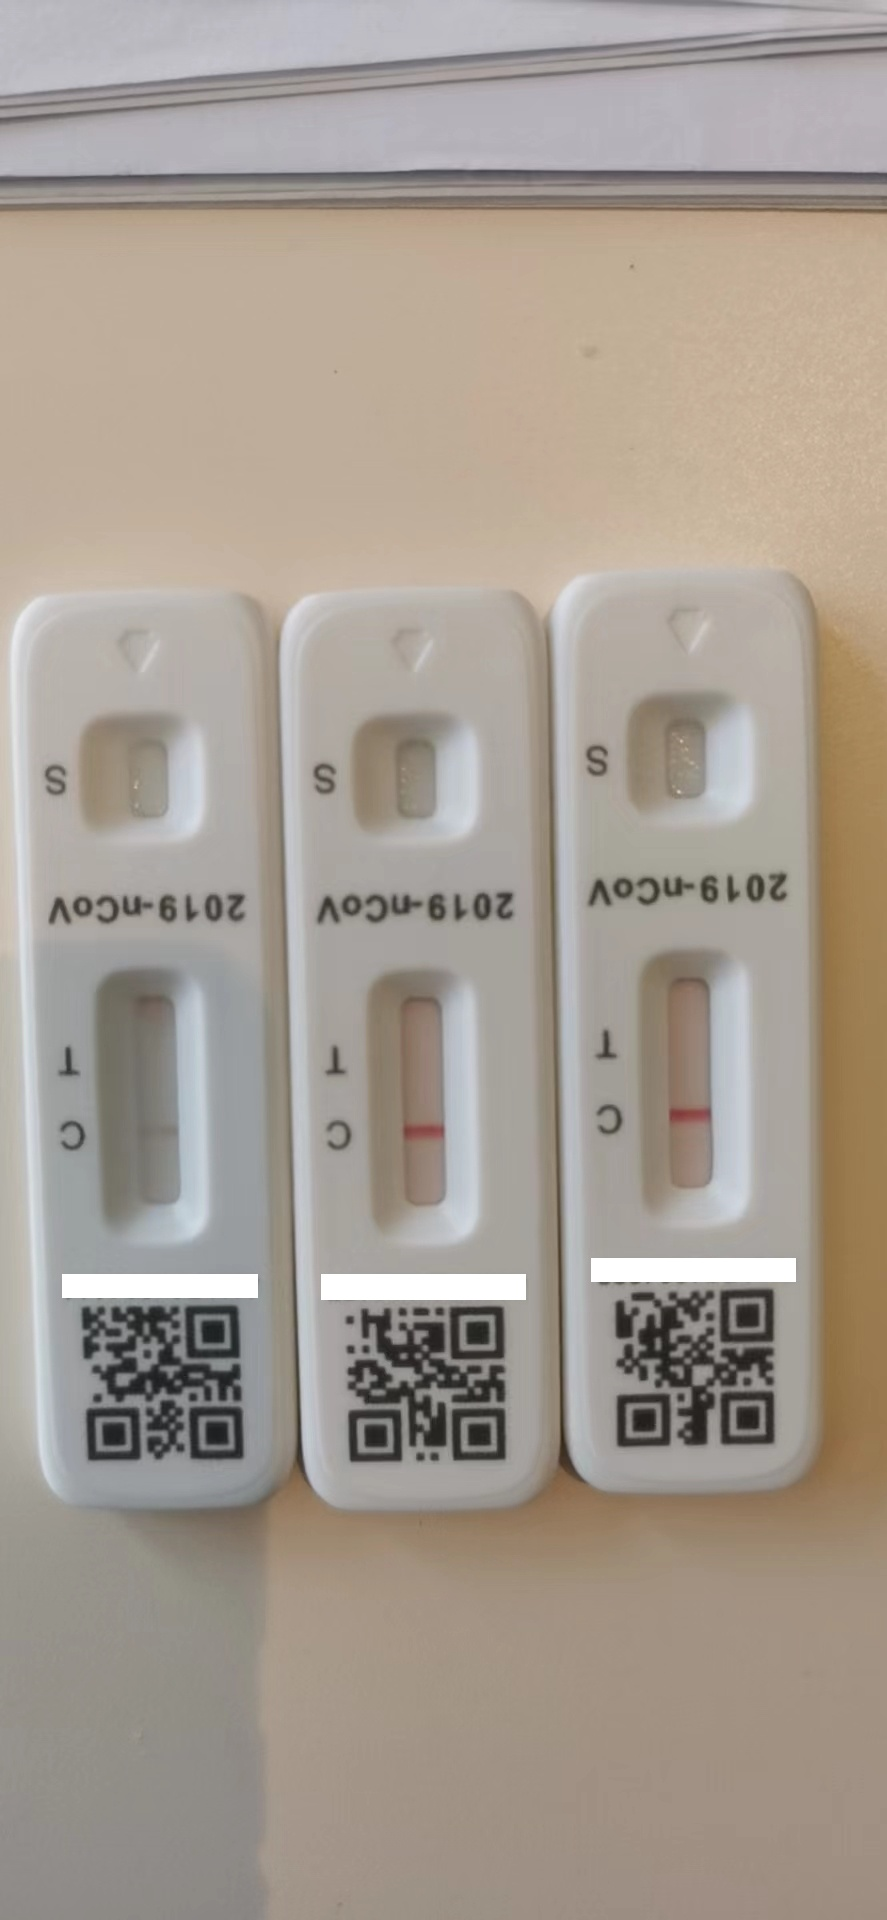negative: (94, 967, 203, 1236), (638, 950, 745, 1221), (368, 973, 473, 1243)
